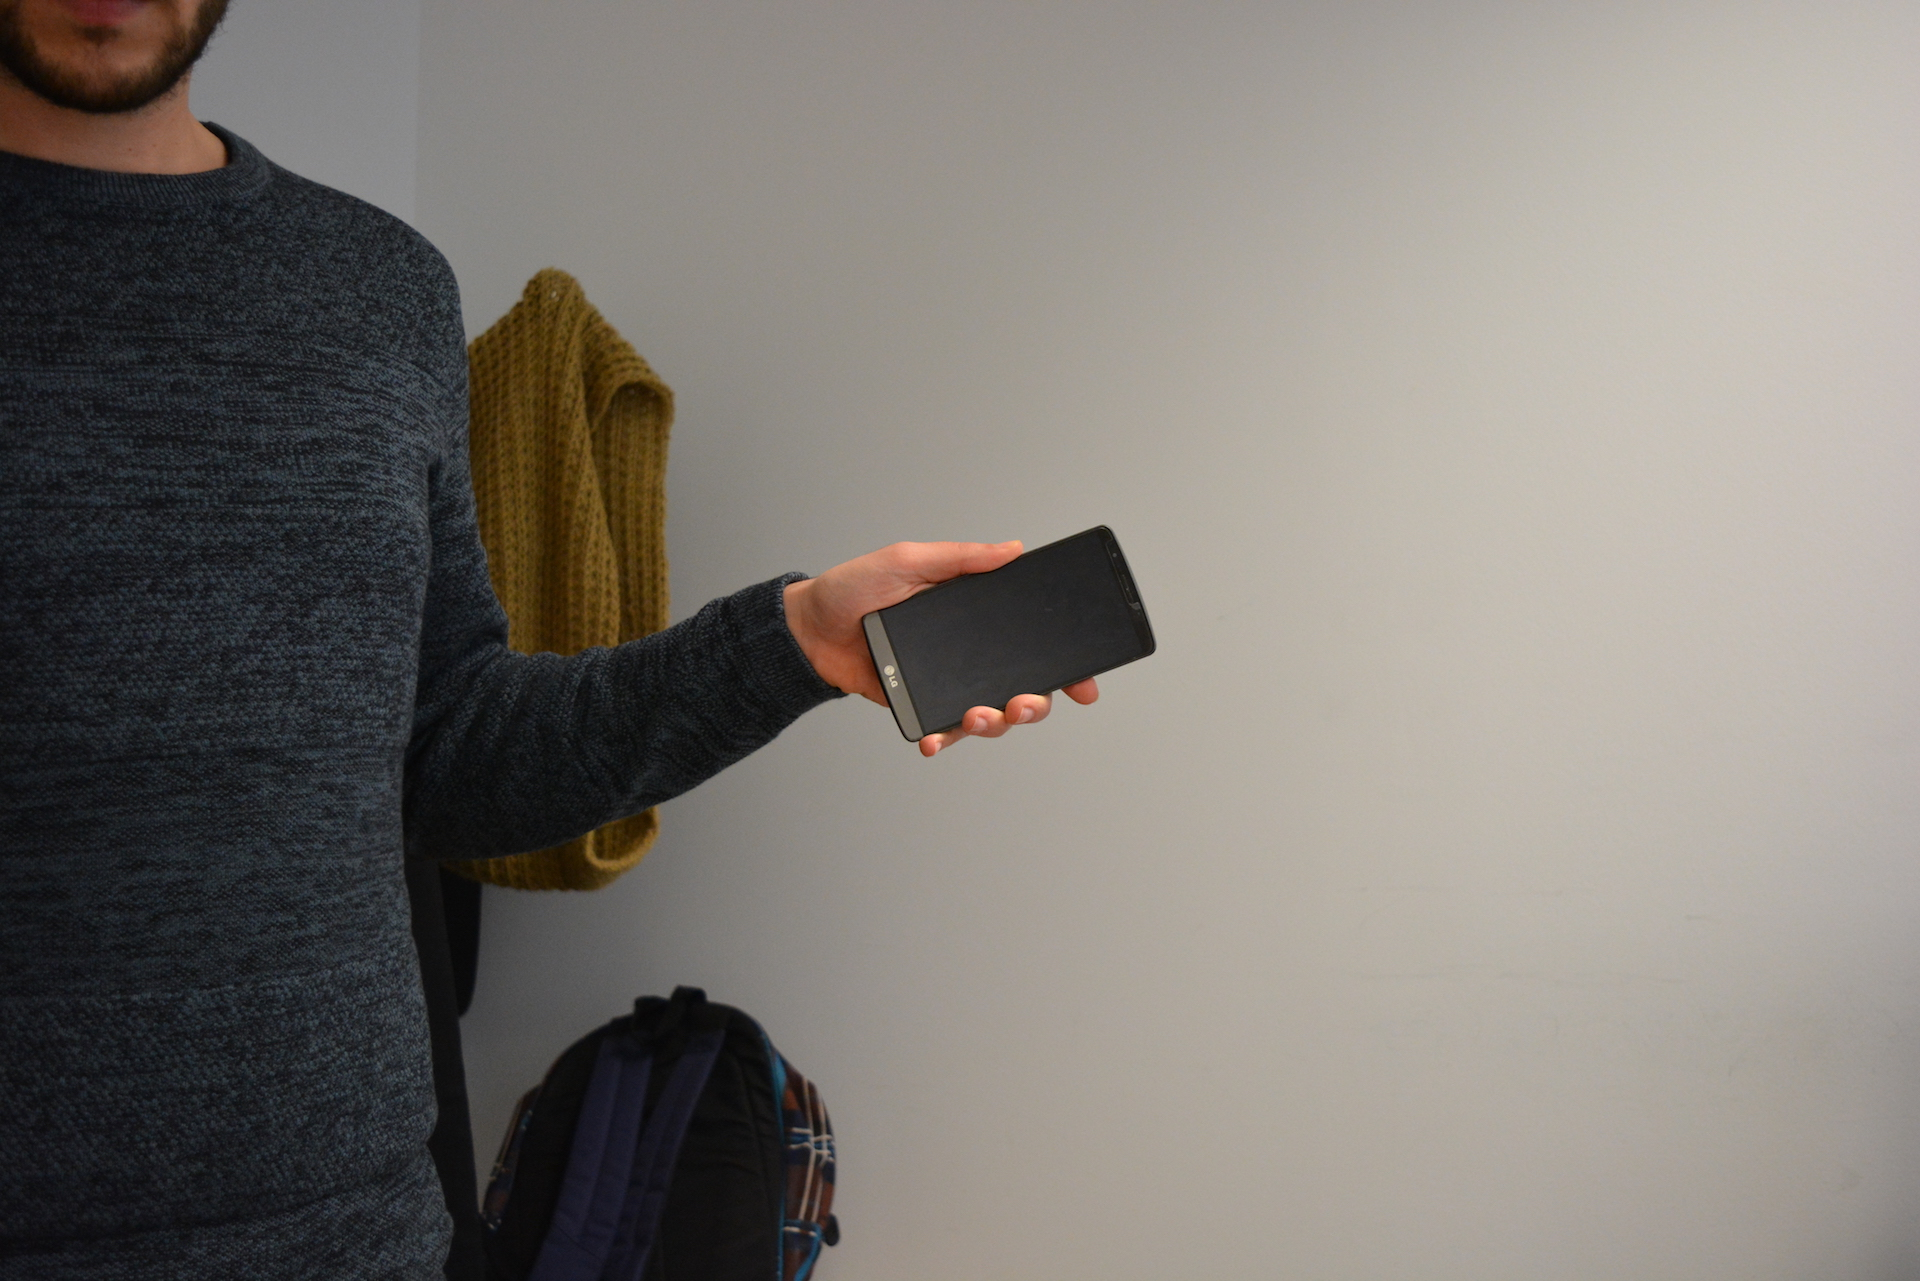smartphone: (859, 523, 1158, 743)
